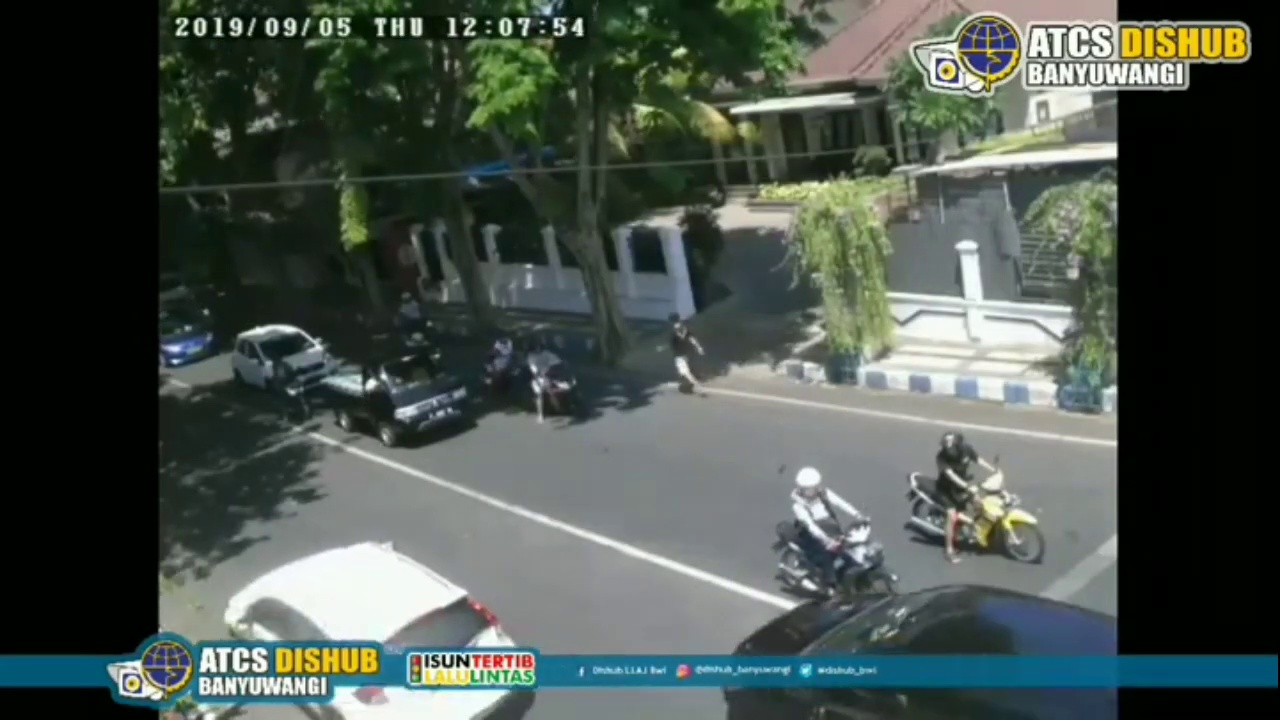car: (224, 546, 529, 720), (731, 588, 1120, 717), (329, 348, 465, 450), (235, 323, 339, 396)
motorbike: (905, 432, 1050, 567), (779, 469, 897, 601), (525, 340, 578, 421), (269, 357, 312, 420)
